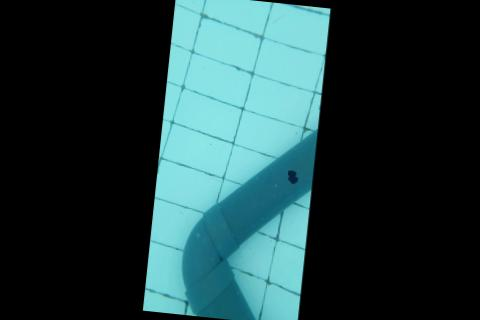kebocoran: (284, 168, 300, 186)
